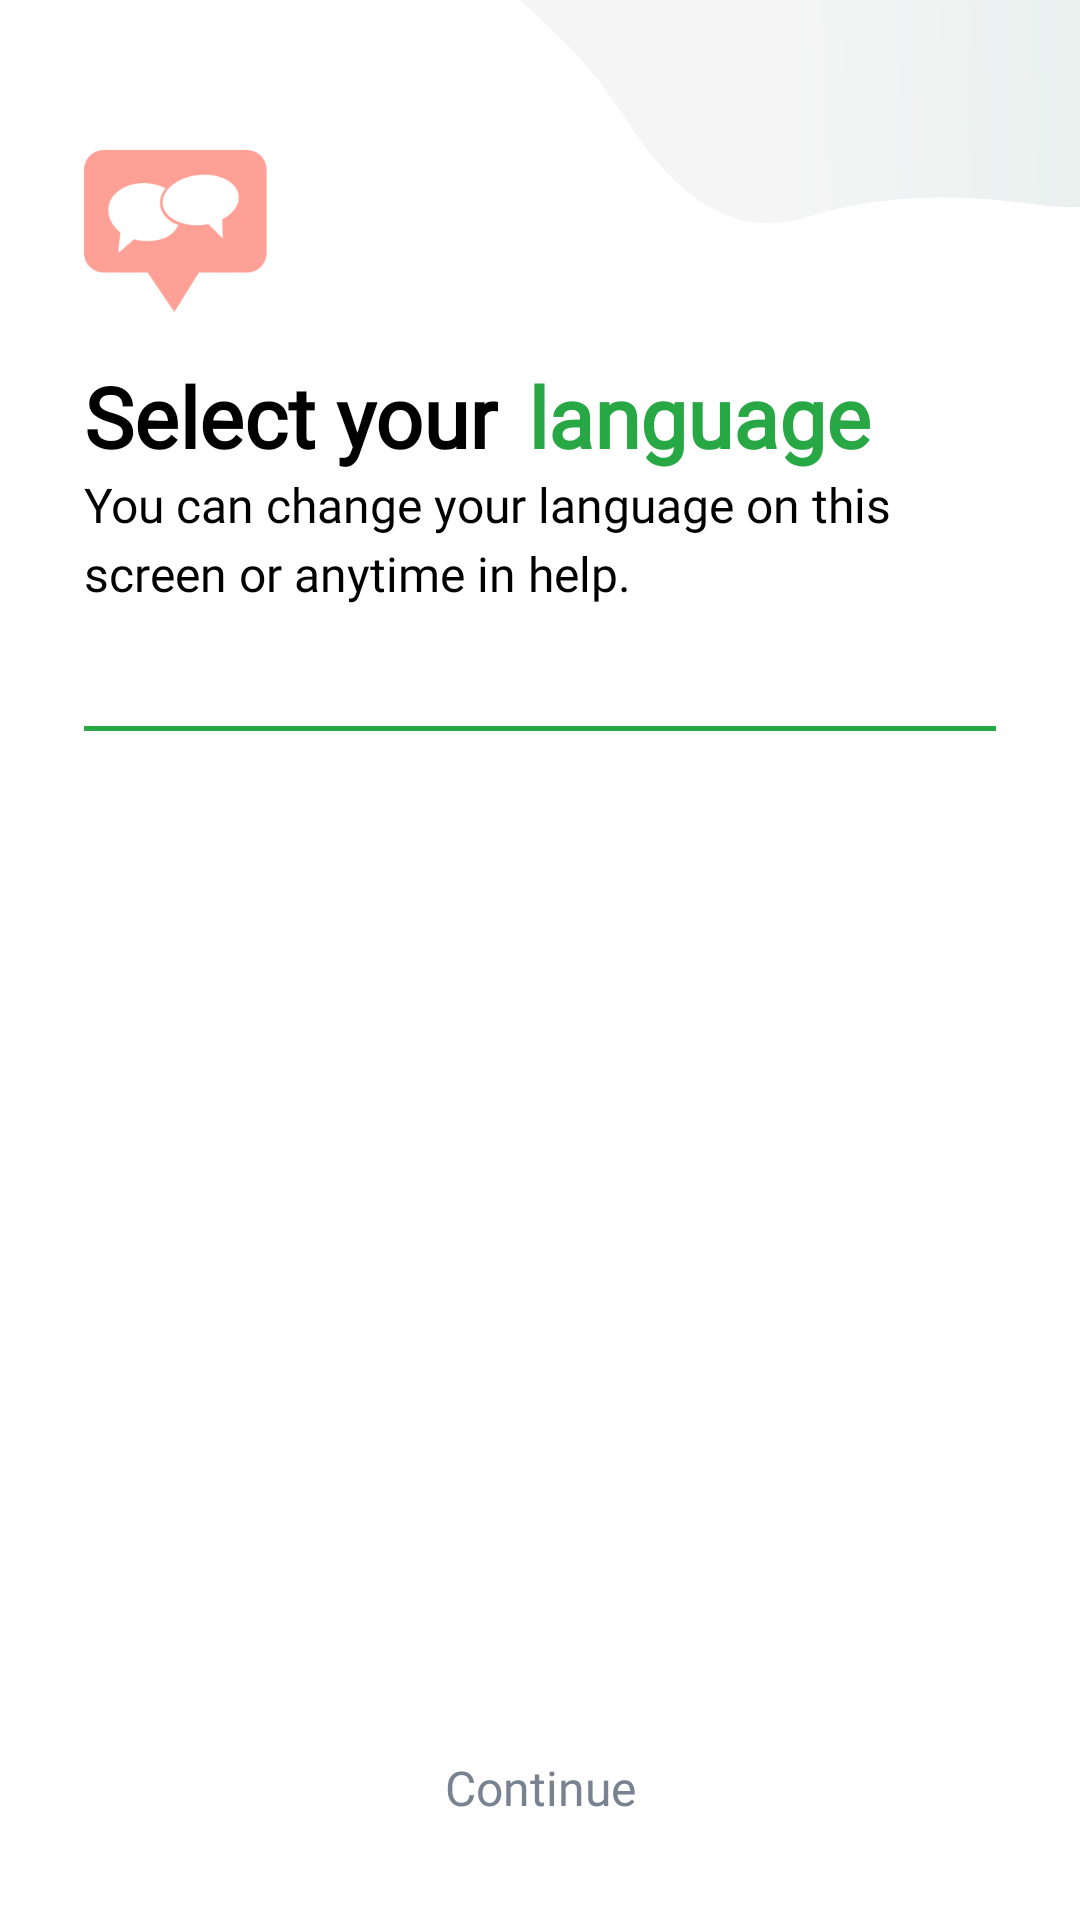

Point at icon controls on the screen. Image size 1080px x 1920px, points as (x,y).
chat: (175,231)
